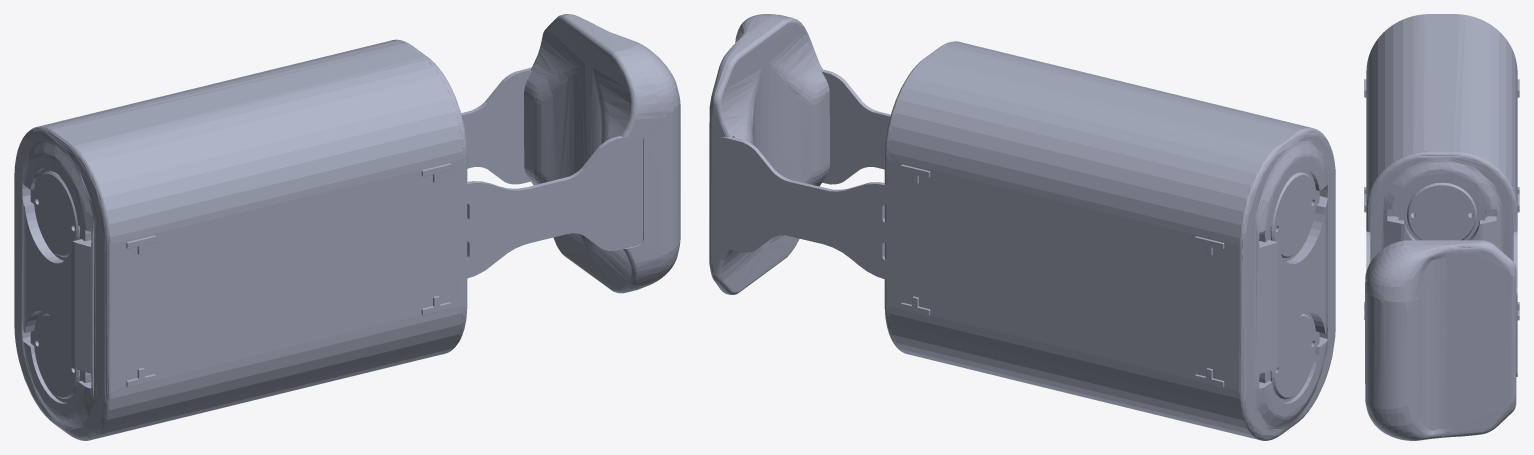
Rendered from trunk.obj.
3 views of the same model, side by side, from view 1: azimuth 30°, elevation 25°; view 2: azimuth 150°, elevation 25°; view 3: azimuth 270°, elevation 25° (orthographic). The views are drawn at different scales.
Visible parts, largest first — view 1: 机身组件2020_1_-mesh; view 2: 机身组件2020_1_-mesh; view 3: 机身组件2020_1_-mesh.
Part boxes in pixels (x1,y1,x2,y2): 机身组件2020_1_-mesh: (14,14,680,440); 机身组件2020_1_-mesh: (709,14,1335,440); 机身组件2020_1_-mesh: (1364,14,1519,440).
Size of the model in its own units: 0.4142 by 0.194 by 0.117.
